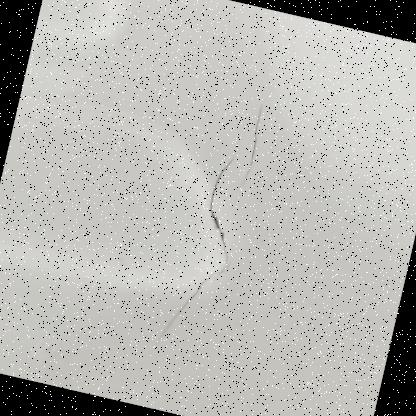Crack: (137, 67, 309, 372)
